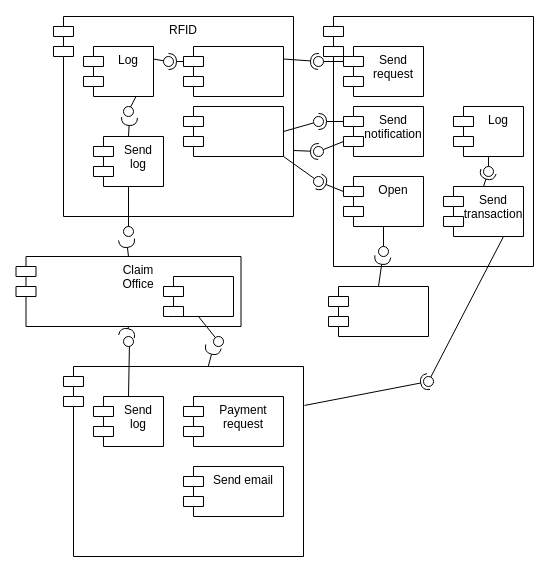
Some shapes in this 550 by 573 pixel diagram are drawn without their labels. Each missing label, with the box of its shape:
Central System: (62, 366, 304, 556)
Debug request: (162, 276, 234, 316)
Gate: (328, 286, 428, 336)
Gate Controler: (322, 16, 534, 266)
Request: (182, 46, 284, 96)
Send Certificate: (182, 106, 284, 156)
